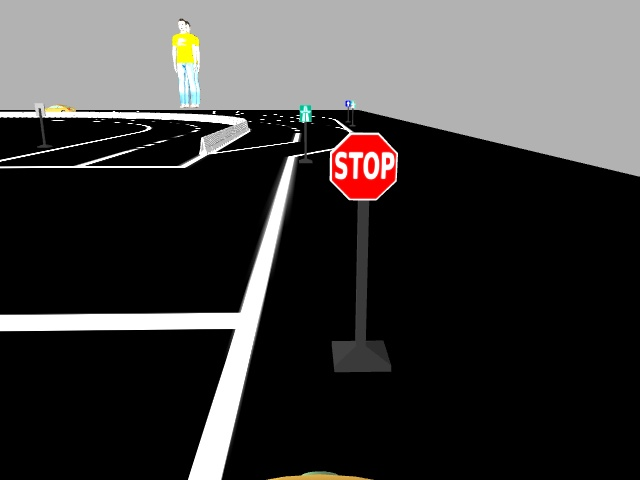Stop: (326, 130, 399, 203)
